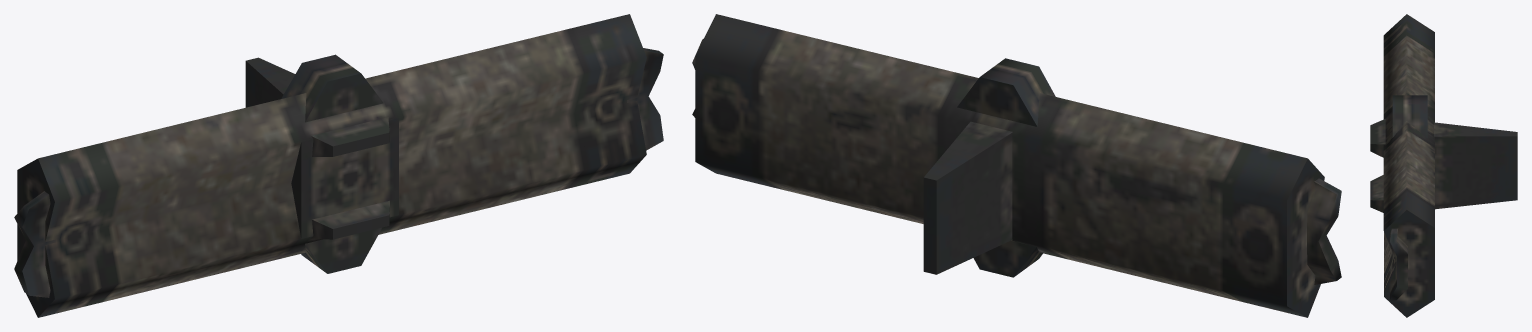
3 views of the same model, side by side, from view 1: azimuth 30°, elevation 25°; view 2: azimuth 150°, elevation 25°; view 3: azimuth 270°, elevation 25° (orthographic). The views are drawn at different scales.
Visible parts, largest first — view 1: set_0_group_0; view 2: set_0_group_0; view 3: set_0_group_0.
Part boxes in pixels (x1=…): set_0_group_0: x1=14, y1=14, x2=663, y2=317; set_0_group_0: x1=692, y1=14, x2=1341, y2=317; set_0_group_0: x1=1370, y1=14, x2=1517, y2=317.
Bounding box in the file's own units: 0.5444 × 0.1569 × 0.1609.
1 material, 1 textured.
